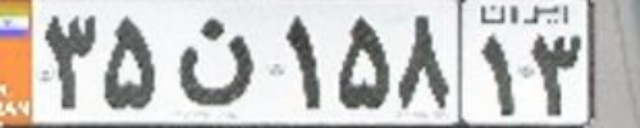1: (283, 19, 324, 109), (481, 31, 518, 114)
3: (45, 14, 95, 109), (528, 33, 580, 116)
5: (104, 16, 158, 109), (341, 15, 387, 109)
8: (398, 14, 449, 110)
non: (176, 17, 254, 107)
